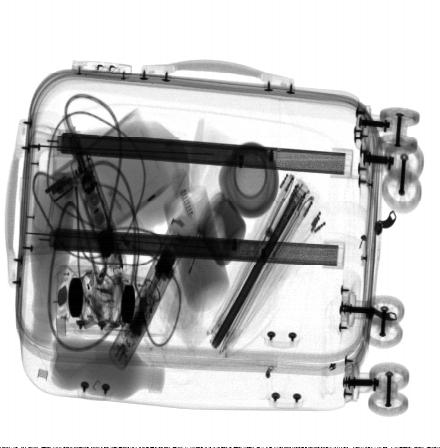Baton: (109, 217, 192, 368)
